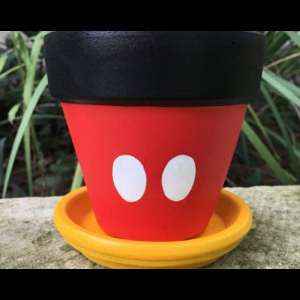flowerpot: (37, 32, 266, 271)
